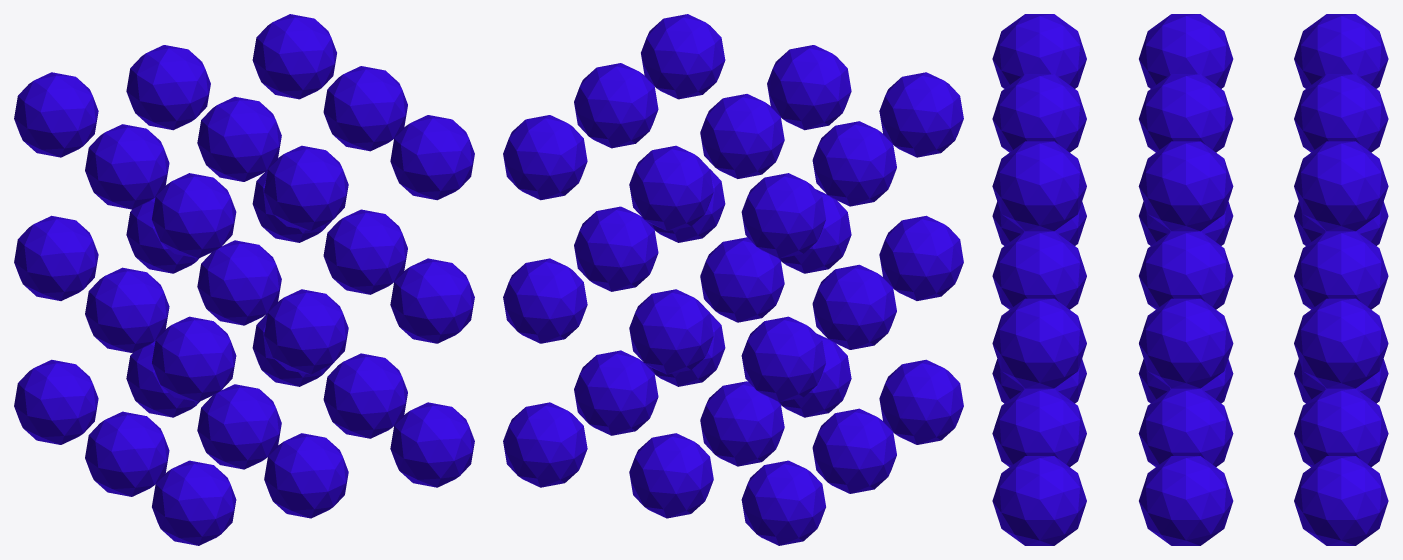
The model's file is spheres.glb.
The picture shows the model from 3 angles, left to right: view 1: azimuth 30°, elevation 25°; view 2: azimuth 150°, elevation 25°; view 3: azimuth 270°, elevation 25°; orthographic projection. The views are drawn at different scales.
Parts seen in each view (by area): view 1: Icosphere.008, Icosphere.011, Icosphere.014, Icosphere.024, Icosphere.025, Icosphere.006, Icosphere.007, Icosphere.001, Icosphere.019, Icosphere.004, Icosphere.015, Icosphere.026 (+15 smaller); view 2: Icosphere.004, Icosphere.005, Icosphere.008, Icosphere.015, Icosphere.016, Icosphere.001, Icosphere.006, Icosphere.010, Icosphere.017, Icosphere.024, Icosphere.011, Icosphere.012 (+15 smaller); view 3: Icosphere.007, Icosphere.010, Icosphere.016, Icosphere.019, Icosphere.025, Icosphere.001, Icosphere.013, Icosphere.022, Icosphere.004, Icosphere, Icosphere.015, Icosphere.024 (+15 smaller).
Boxes of the visible parts, x1,y1,x2,y2 form: Icosphere.008: (85,124,169,209); Icosphere.011: (14,215,98,300); Icosphere.014: (14,359,98,444); Icosphere.024: (264,145,348,230); Icosphere.025: (390,115,474,200); Icosphere.006: (197,96,281,181); Icosphere.007: (323,66,407,151); Icosphere.001: (323,209,407,294); Icosphere.019: (390,258,474,343); Icosphere.004: (323,353,407,438); Icosphere.015: (126,45,210,130); Icosphere.026: (152,173,236,258); Icosphere.004: (574,350,658,435); Icosphere.005: (812,408,896,493); Icosphere.008: (812,121,896,206); Icosphere.015: (629,145,713,230); Icosphere.016: (503,115,587,200); Icosphere.001: (574,206,658,291); Icosphere.006: (700,94,784,178); Icosphere.010: (503,258,587,343); Icosphere.017: (741,173,825,258); Icosphere.024: (767,45,851,130); Icosphere.011: (741,316,825,401); Icosphere.012: (629,433,713,518); Icosphere.007: (1138,141,1233,231); Icosphere.010: (1294,298,1388,388); Icosphere.016: (1294,141,1388,231); Icosphere.019: (992,298,1086,388); Icosphere.025: (992,141,1086,231); Icosphere.001: (1139,298,1233,388); Icosphere.013: (1294,456,1388,545); Icosphere.022: (992,456,1086,545); Icosphere.004: (1139,456,1233,545); Icosphere: (1139,231,1233,309); Icosphere.015: (1294,74,1388,152); Icosphere.024: (992,74,1086,152).
Bounding box in the file's own units: 8.27 × 9.33 × 8.37.
